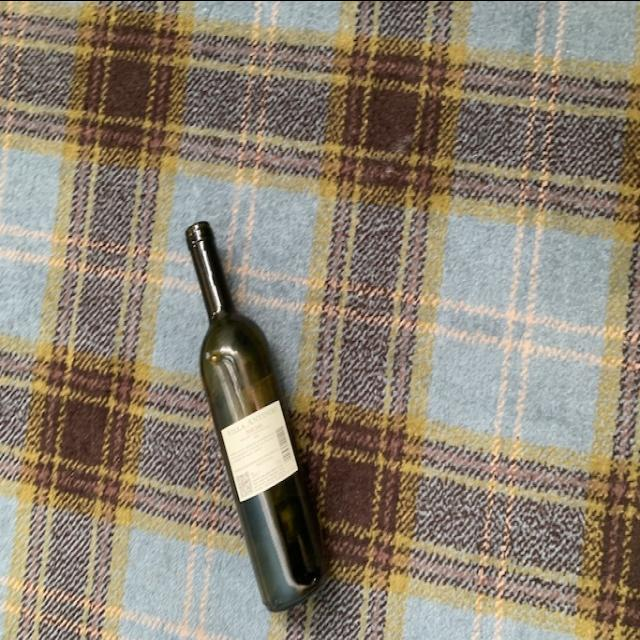litter: (178, 221, 330, 611)
